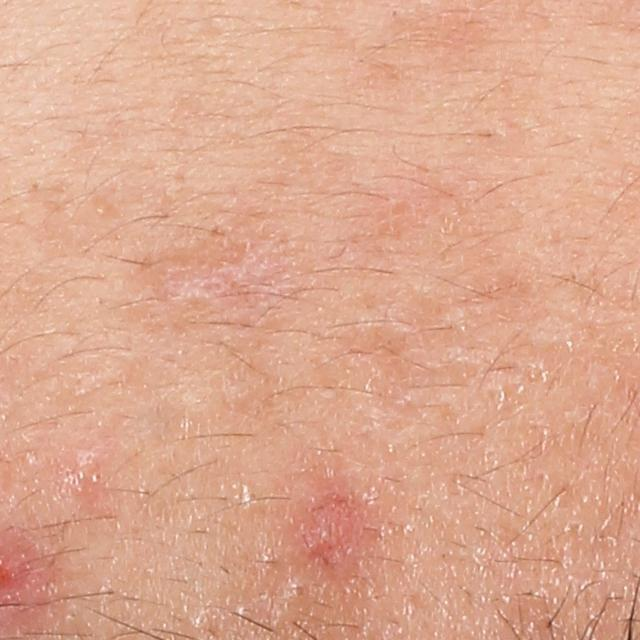comedo: (90, 200, 110, 219)
papule: (301, 488, 365, 564)
